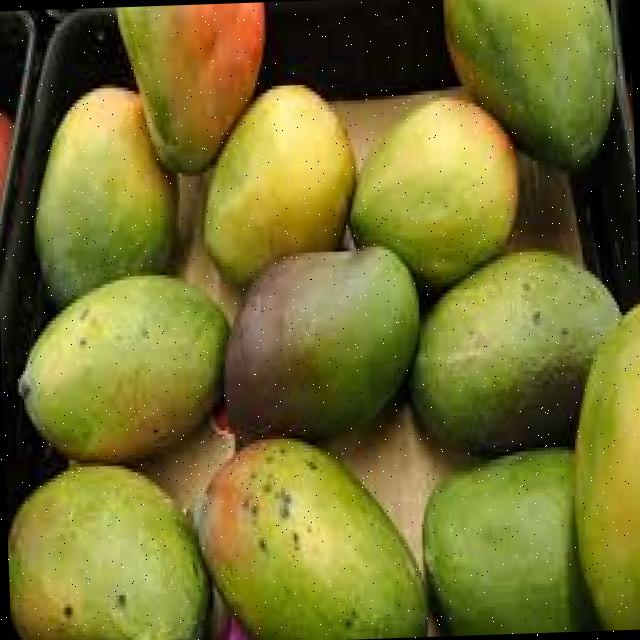mango: (223, 246, 422, 451)
